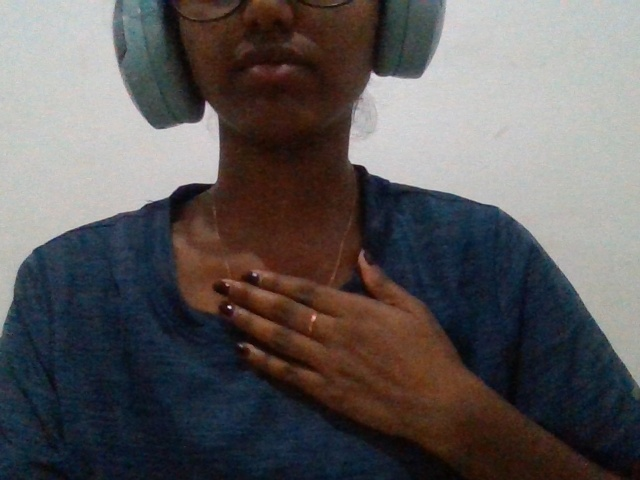Please: (184, 230, 495, 463)
